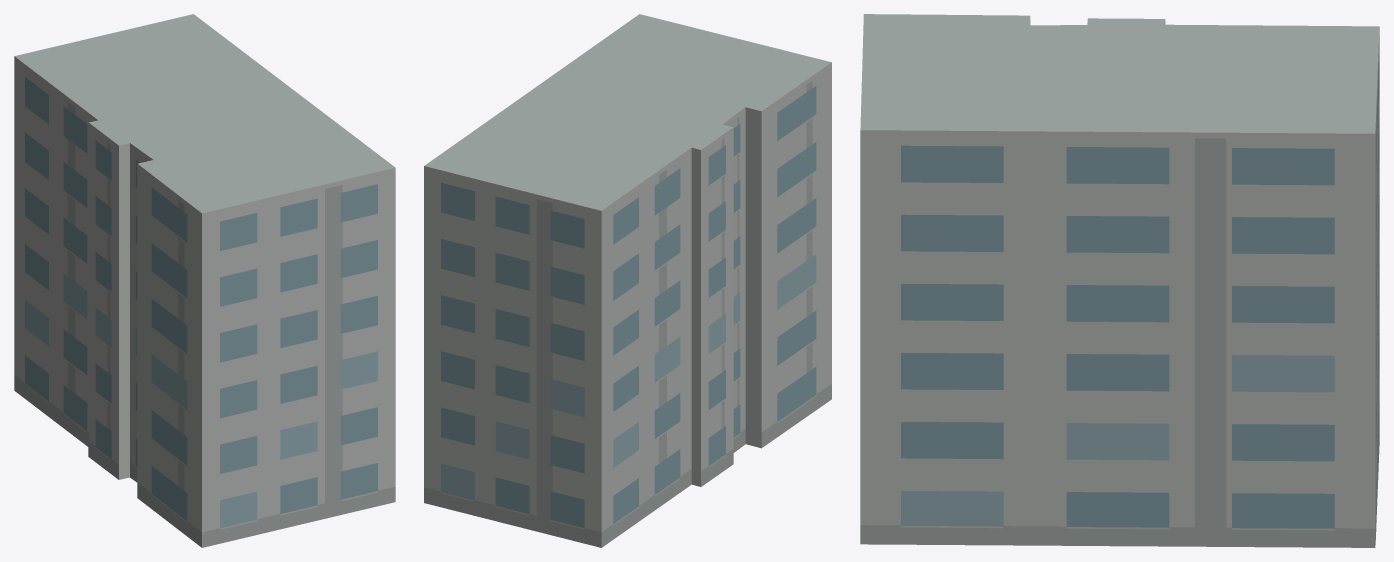
The model's file is survey-upis-32804721.glb.
The picture shows the model from 3 angles, left to right: view 1: azimuth 30°, elevation 25°; view 2: azimuth 150°, elevation 25°; view 3: azimuth 270°, elevation 25°; orthographic projection. The views are drawn at different scales.
Parts seen in each view (by area): view 1: survey-upis-32804721.tmp; view 2: survey-upis-32804721.tmp; view 3: survey-upis-32804721.tmp.
Boxes of the visible parts, x1,y1,x2,y2 form: survey-upis-32804721.tmp: (14, 14, 395, 547); survey-upis-32804721.tmp: (424, 14, 831, 547); survey-upis-32804721.tmp: (860, 14, 1379, 547).
Bounding box in the file's own units: 10.83 × 17.45 × 19.83.
